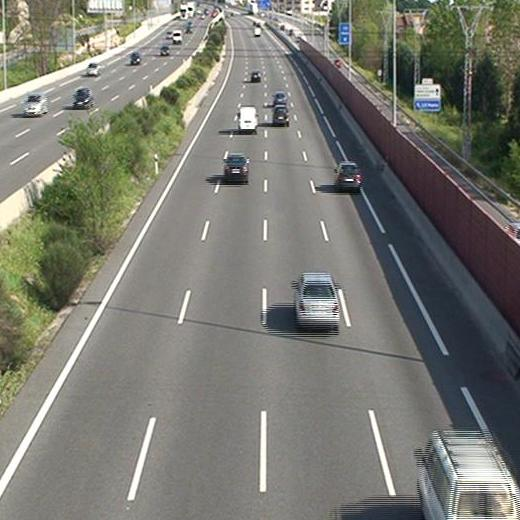car: (295, 274, 339, 327), (336, 164, 361, 188), (225, 156, 249, 179), (273, 106, 289, 123), (272, 92, 286, 105), (250, 71, 261, 82)
van: (419, 435, 520, 519), (238, 107, 258, 130)
